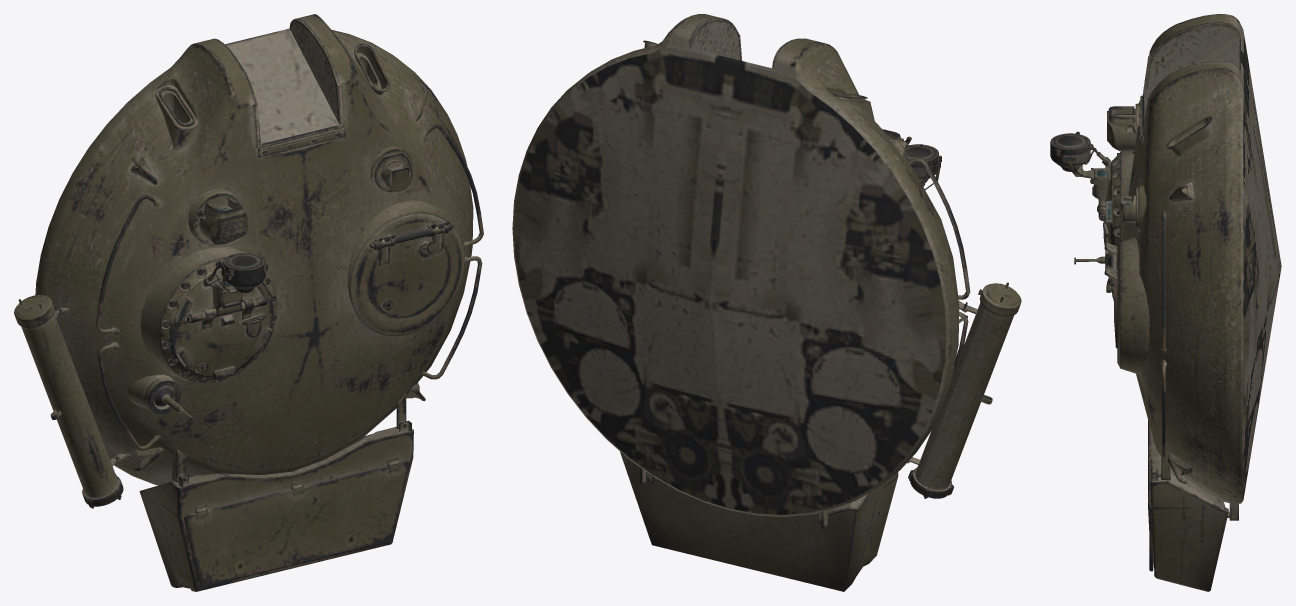
Rendered from Turret_01.glb.
The picture shows the model from 3 angles, left to right: view 1: azimuth 30°, elevation 25°; view 2: azimuth 150°, elevation 25°; view 3: azimuth 270°, elevation 25°; orthographic projection. The views are drawn at different scales.
Visible parts, largest first — view 1: set_0_group_0, set_0_group_1; view 2: set_0_group_0, set_0_group_1; view 3: set_0_group_0, set_0_group_1.
Boxes of the visible parts, x1,y1,x2,y2 form: set_0_group_0: [14, 14, 483, 591]; set_0_group_1: [211, 253, 267, 292]; set_0_group_0: [512, 14, 1021, 591]; set_0_group_1: [905, 144, 941, 186]; set_0_group_0: [1067, 14, 1281, 591]; set_0_group_1: [1050, 131, 1098, 171].
Size of the model in its own units: 3 by 3.2 by 1.33.
Materials: 2 (2 with a texture image).
